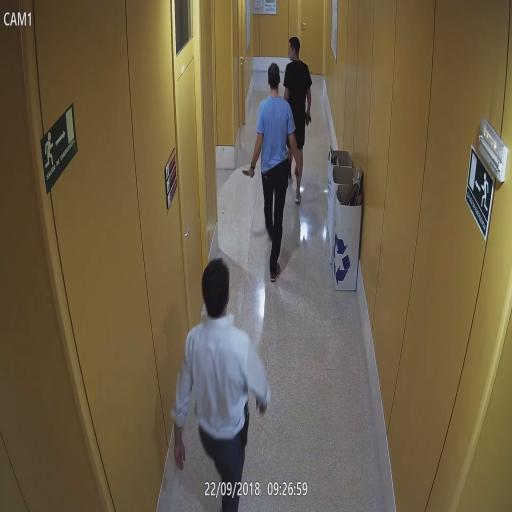Handgun: (304, 108, 312, 129)
